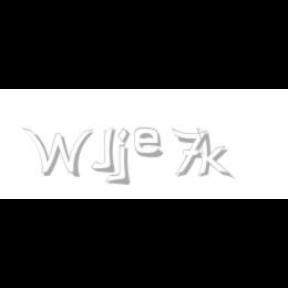7: (172, 128, 210, 178)
J: (90, 128, 116, 172)
W: (22, 128, 94, 178)
e: (134, 128, 168, 158)
j: (116, 128, 144, 186)
k: (196, 128, 234, 180)
